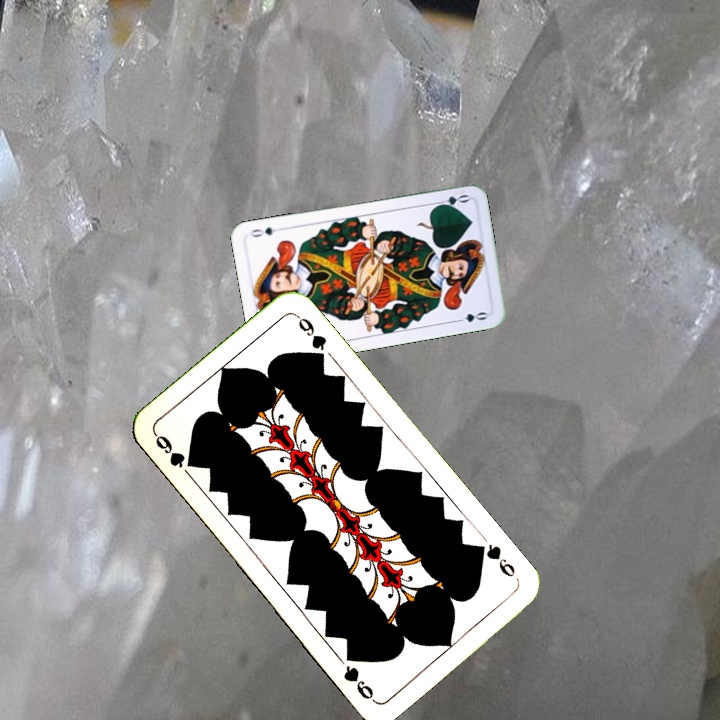G9: (150, 430, 197, 471), (471, 539, 518, 580)
GO: (431, 190, 471, 210)
